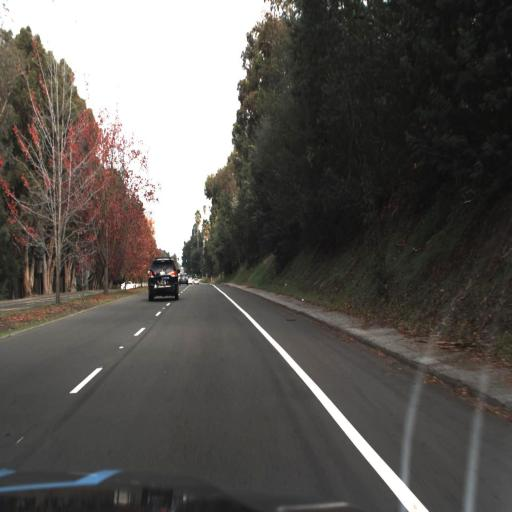car: (140, 255, 179, 308), (116, 273, 139, 297), (175, 268, 191, 292)
